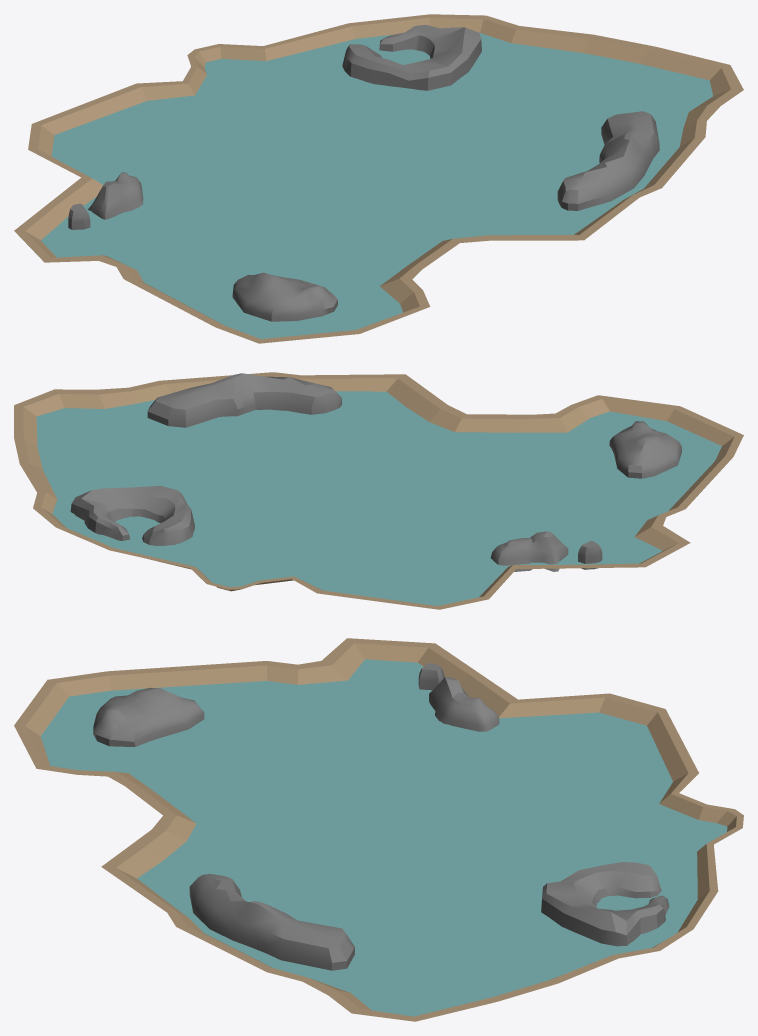
Rendered from 2024_GoFish_Playspace_V6.fbx.
3 renders of one model, top to bottom at view 1: azimuth 30°, elevation 25°; view 2: azimuth 150°, elevation 25°; view 3: azimuth 270°, elevation 25°, orthographic. The views are drawn at different scales.
Parts seen in each view (by area): view 1: Playspace_water, Playspace_sand, Cube.004, Cube.003, Cube.002, Cube; view 2: Playspace_water, Playspace_sand, Cube.003, Cube.004, Cube.002, Cube, Cube.001; view 3: Playspace_water, Playspace_sand, Cube.003, Cube.004, Cube.002, Cube.
Boxes of the visible parts, x1,y1,x2,y2 form: Playspace_water: (41, 33, 712, 338); Playspace_sand: (14, 14, 743, 343); Cube.004: (342, 24, 481, 90); Cube.003: (557, 111, 659, 210); Cube.002: (232, 272, 337, 321); Cube: (88, 172, 143, 219); Playspace_water: (36, 391, 721, 605); Playspace_sand: (14, 372, 743, 609); Cube.003: (147, 373, 341, 427); Cube.004: (70, 485, 194, 545); Cube.002: (609, 421, 681, 478); Cube: (490, 531, 568, 571); Cube.001: (578, 541, 602, 569); Playspace_water: (40, 659, 727, 1016); Playspace_sand: (14, 638, 743, 1021); Cube.003: (189, 874, 354, 970); Cube.004: (541, 862, 669, 946); Cube.002: (93, 687, 204, 746); Cube: (429, 677, 499, 731).
Bounding box in the file's own units: 1.93 × 0.1034 × 1.55.
